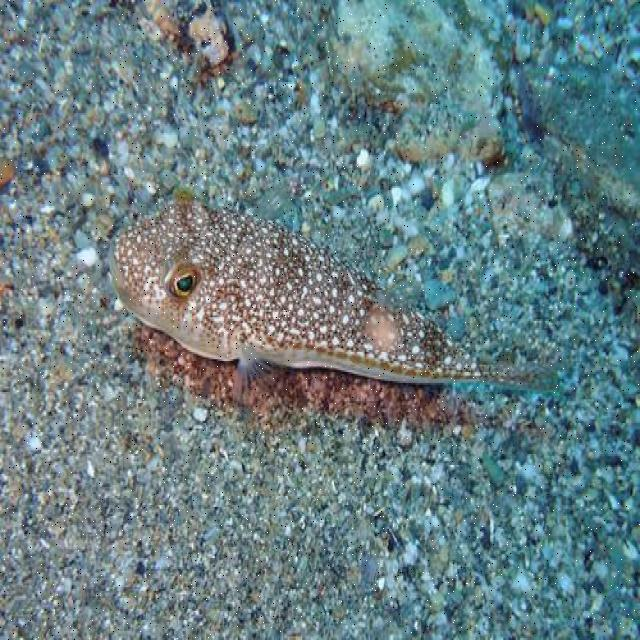Balik: (111, 201, 547, 388)
